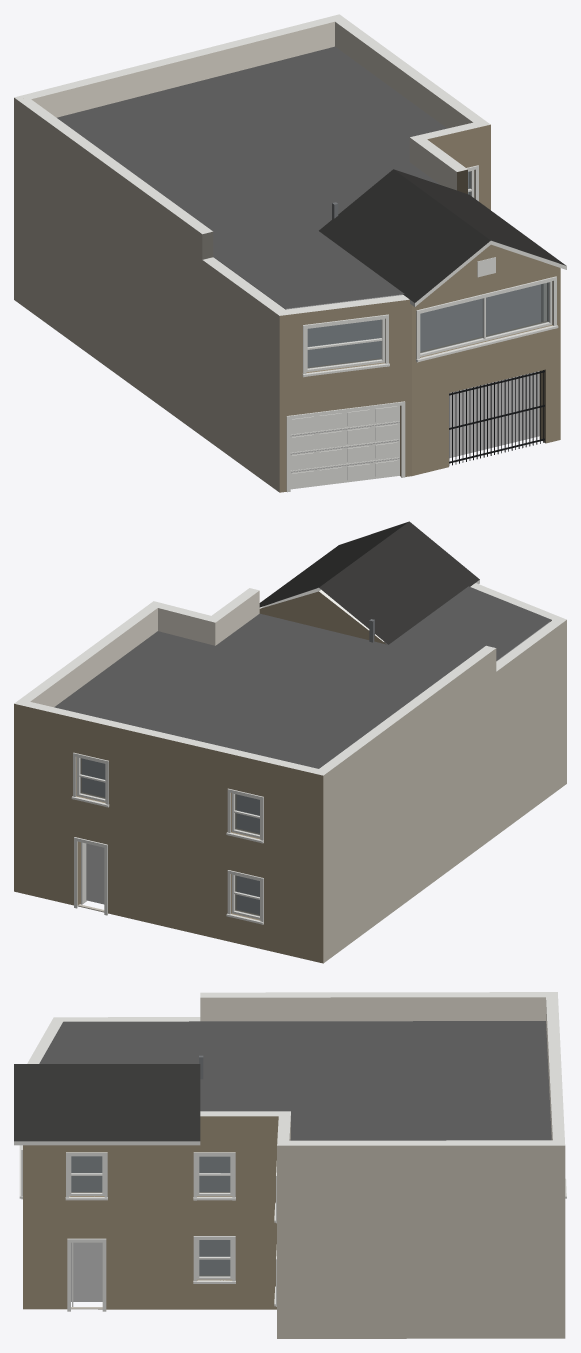
File: exterior.glb
3 renders of one model, top to bottom at view 1: azimuth 30°, elevation 25°; view 2: azimuth 150°, elevation 25°; view 3: azimuth 270°, elevation 25°, orthographic. The views are drawn at different scales.
Visible parts, largest first — view 1: shell, roof, shadow-proxy, doors, glazing, trim, gable, frames; view 2: shell, roof, shadow-proxy, trim, glazing, gable, frames; view 3: shell, roof, shadow-proxy, glazing, trim, frames.
Boxes of the visible parts, x1,y1,x2,y2 form: shell: [14, 14, 560, 492]; roof: [57, 46, 566, 308]; shadow-proxy: [213, 172, 540, 458]; doors: [286, 370, 544, 492]; glazing: [307, 171, 548, 368]; trim: [302, 165, 558, 377]; gable: [430, 244, 551, 294]; frames: [306, 170, 552, 372]; shell: [14, 583, 566, 963]; roof: [54, 521, 551, 768]; shadow-proxy: [82, 622, 549, 914]; trim: [71, 752, 263, 924]; glazing: [80, 758, 259, 916]; gable: [259, 591, 386, 644]; frames: [77, 757, 260, 919]; shell: [23, 992, 565, 1338]; roof: [14, 1021, 551, 1145]; shadow-proxy: [71, 1156, 229, 1301]; glazing: [71, 1156, 230, 1276]; trim: [19, 1145, 566, 1311]; frames: [69, 1155, 232, 1279].
Bounding box in the file's own units: 10.25 × 6.61 × 15.59.
